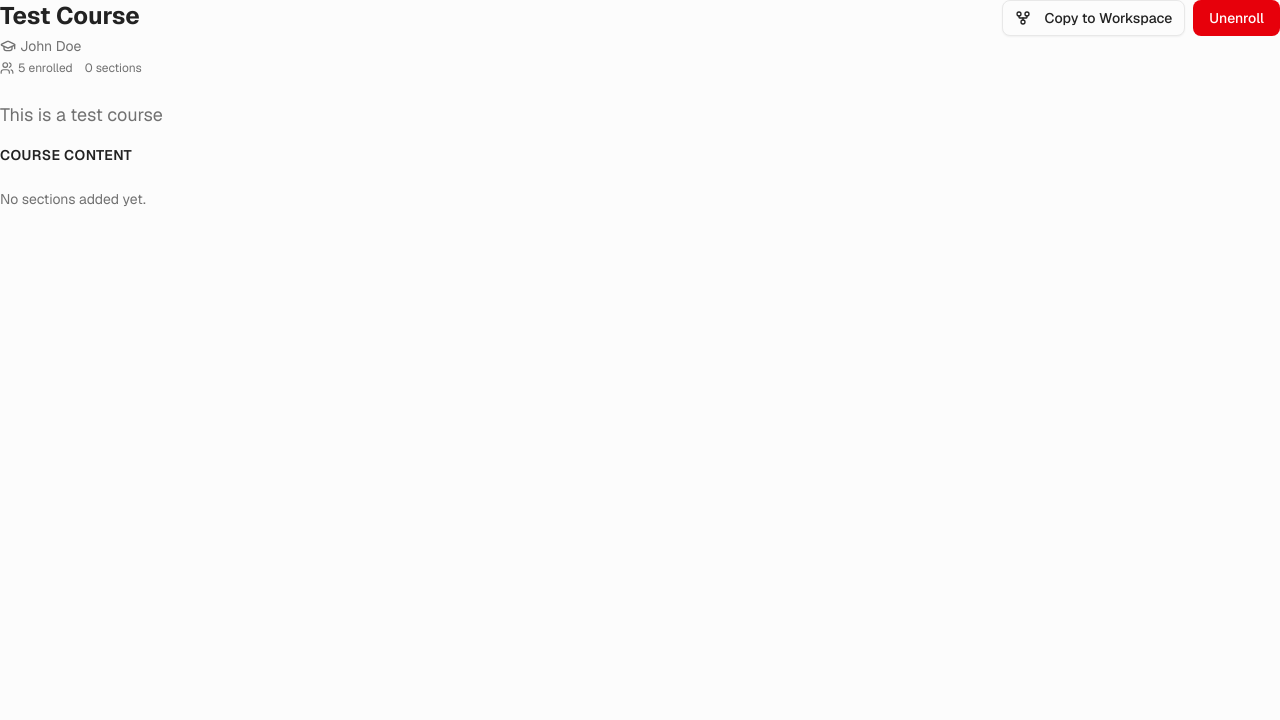
Test case: CourseDetail Component › handles unenrolling via confirmation dialog
Click the button "Unenroll" at (1237, 18), box [1193,0,1279,36]
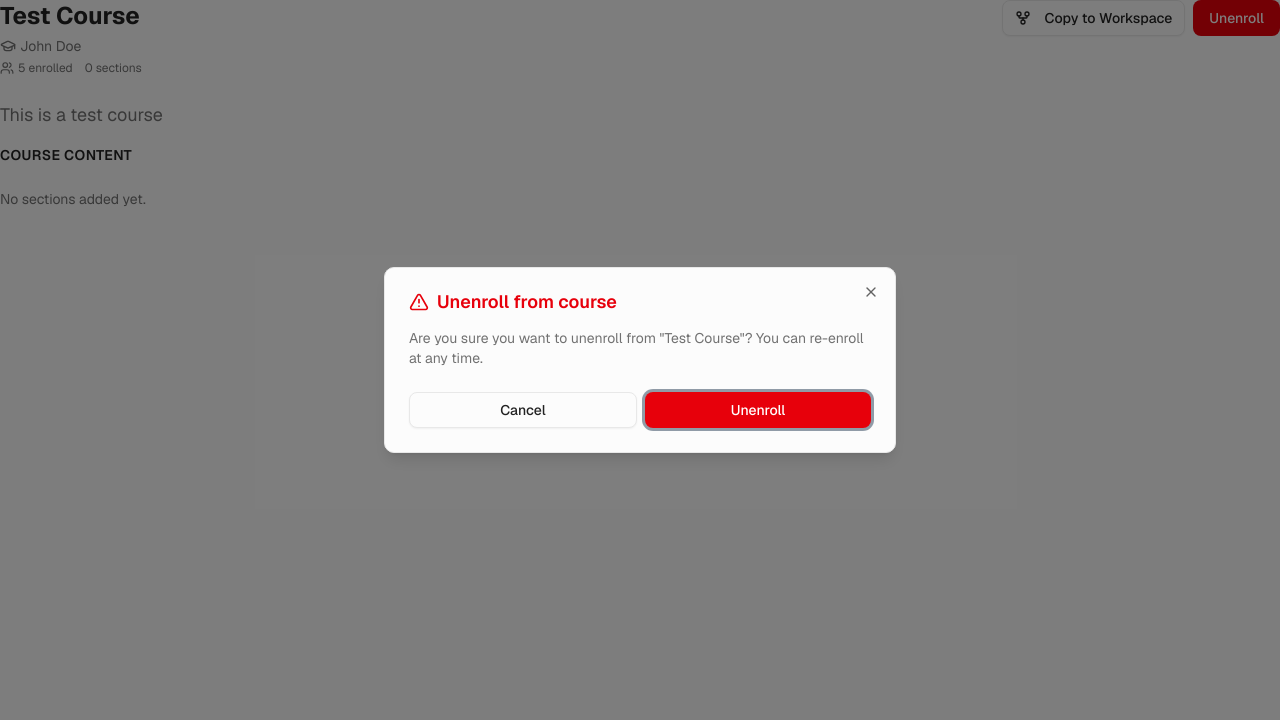
Result: the text "Are you sure you want to unenroll" is shown at [409,329,864,367]
Note: Find and click the confirm button inside the dialog
Click the button "Unenroll" at (758, 410), box [645,392,871,428]
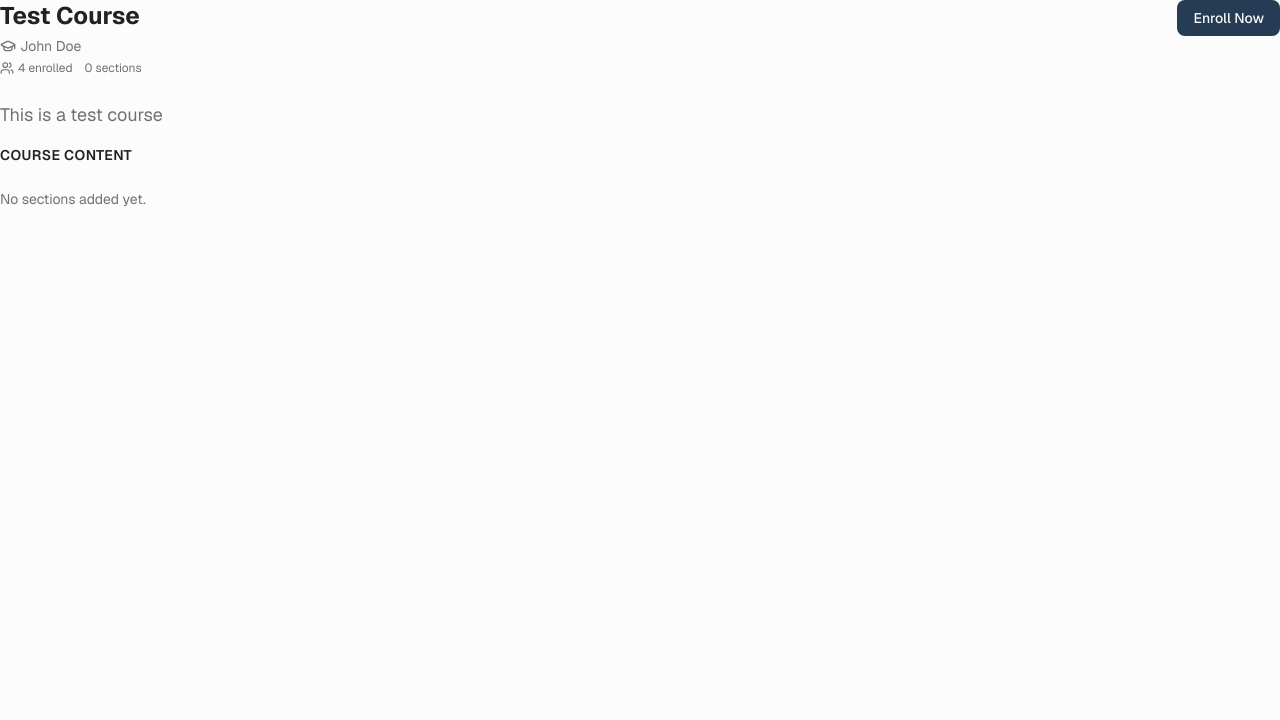
Result: the button "Enroll Now" is shown at [1177,0,1279,36]
